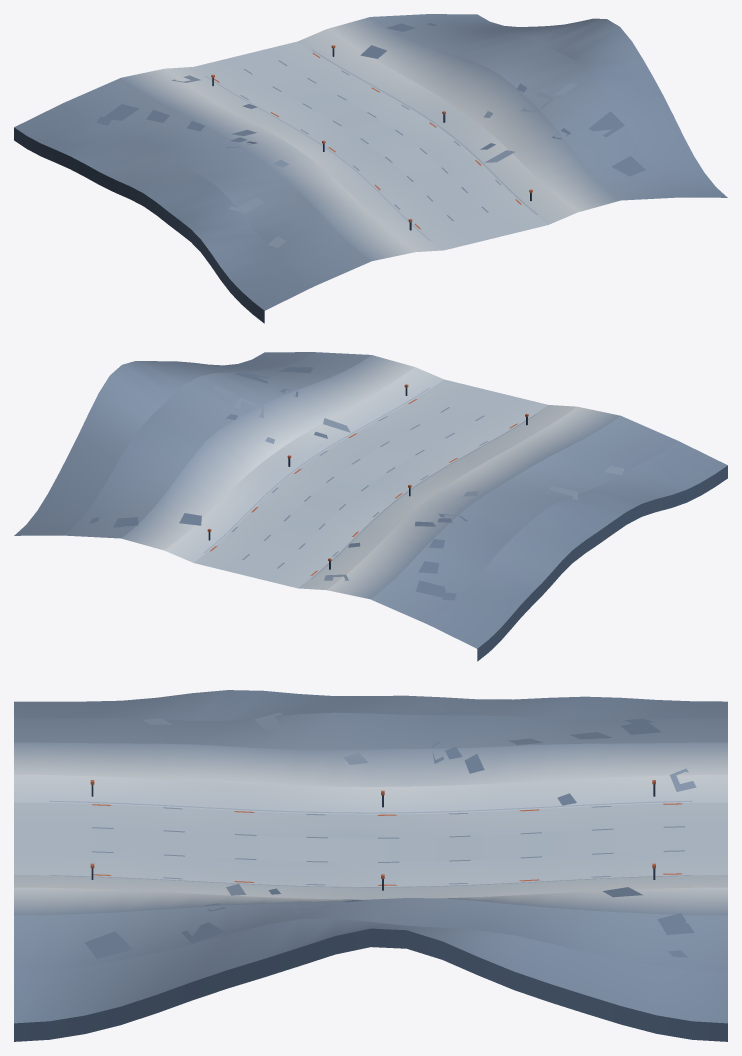
The model's file is 02-gentle_turn.glb.
The picture shows the model from 3 angles, top to bottom: view 1: azimuth 30°, elevation 25°; view 2: azimuth 150°, elevation 25°; view 3: azimuth 270°, elevation 25°; orthographic projection. The views are drawn at different scales.
Visible parts, largest first — view 1: gentle_turn; view 2: gentle_turn; view 3: gentle_turn.
Boxes of the visible parts, x1,y1,x2,y2 form: gentle_turn: (14, 14, 727, 323); gentle_turn: (14, 352, 727, 661); gentle_turn: (14, 690, 727, 1041).
Size of the model in its own units: 33.2 by 5.82 by 30.
